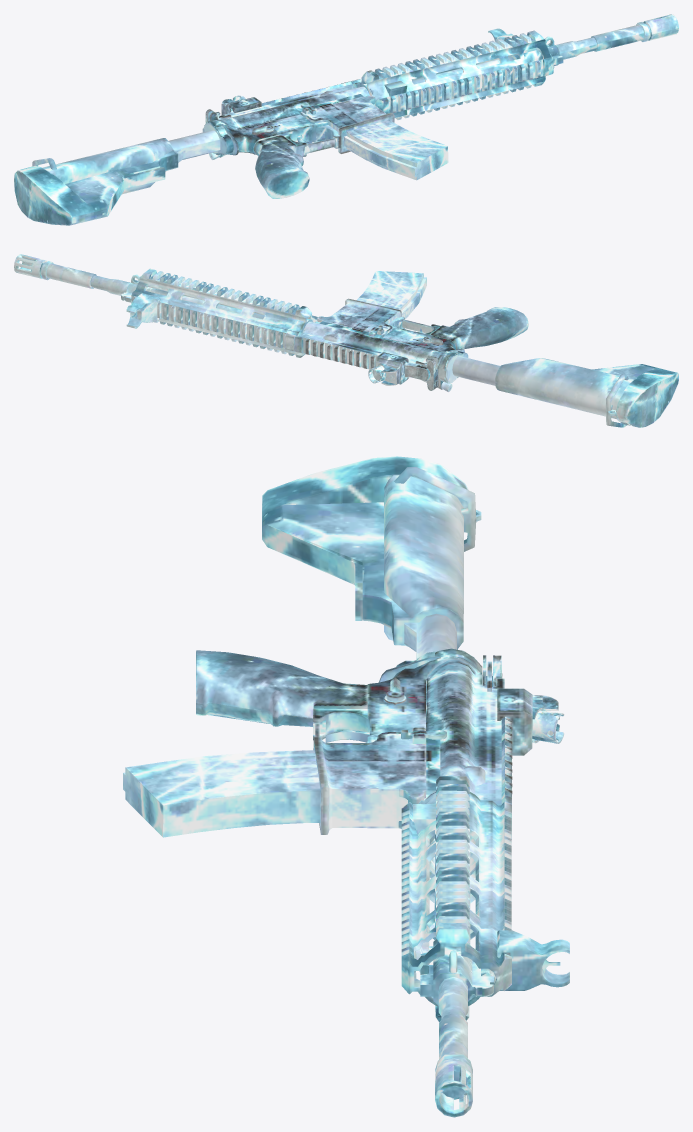
3 renders of one model, top to bottom at view 1: azimuth 30°, elevation 25°; view 2: azimuth 150°, elevation 25°; view 3: azimuth 270°, elevation 25°, orthographic. The views are drawn at different scales.
Parts seen in each view (by area): view 1: main, back, magazine, aim; view 2: main, back, magazine, aim; view 3: main, back, magazine, aim.
Boxes of the visible parts, x1,y1,x2,y2 form: main: (202, 14, 678, 198); back: (14, 124, 238, 225); magazine: (344, 119, 448, 180); aim: (221, 28, 513, 115); main: (14, 254, 528, 391); back: (448, 348, 678, 427); magazine: (357, 271, 426, 319); aim: (126, 293, 408, 385); main: (196, 648, 512, 1117); back: (262, 456, 481, 682); magazine: (123, 750, 320, 837); aim: (497, 688, 569, 990).
Size of the model in its own units: 0.9277 by 0.0754 by 0.2895.
Materials: 4 (4 with a texture image).
